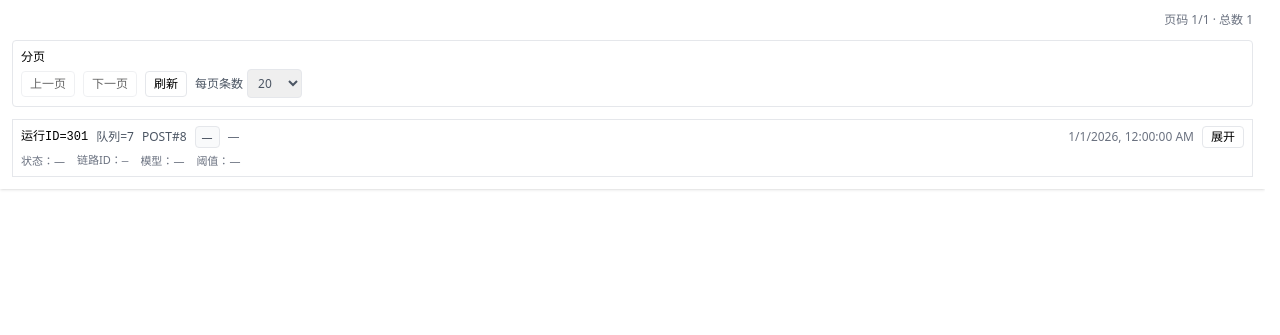
ModerationPipelineHistoryPanel › stageFilter 会过滤 steps 的展示
Expected: the text "运行ID=301" is shown, 21,129 -> 88,145
Expected: the button "运行ID=301" is shown, 12,119 -> 1253,176
Click the button "展开" at (1223, 137), box 1202,126 -> 1244,148
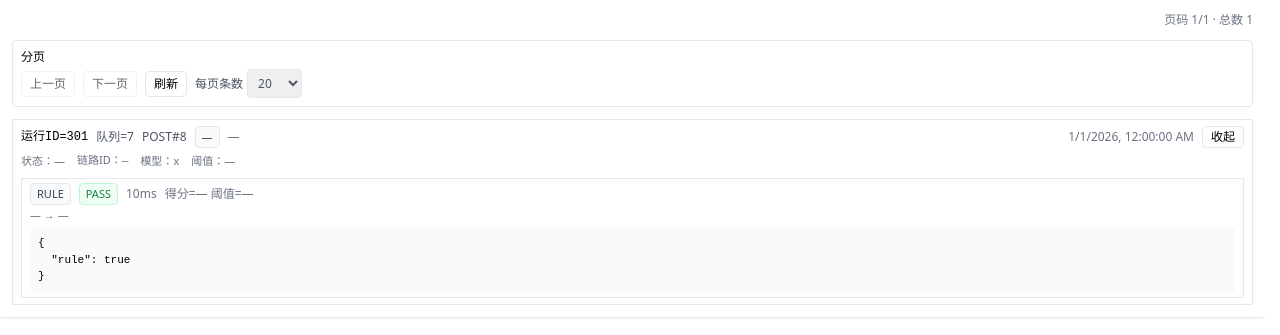
Expected: the text "RULE" is shown, 30,182 -> 71,204
